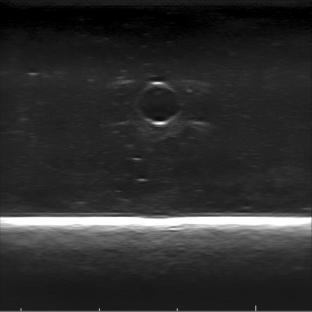vessel: (133, 81, 183, 128)
